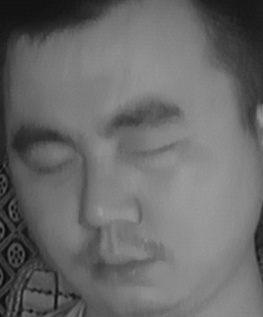blink: (129, 130, 178, 171), (32, 146, 77, 186)
mouth: (83, 235, 156, 289)
